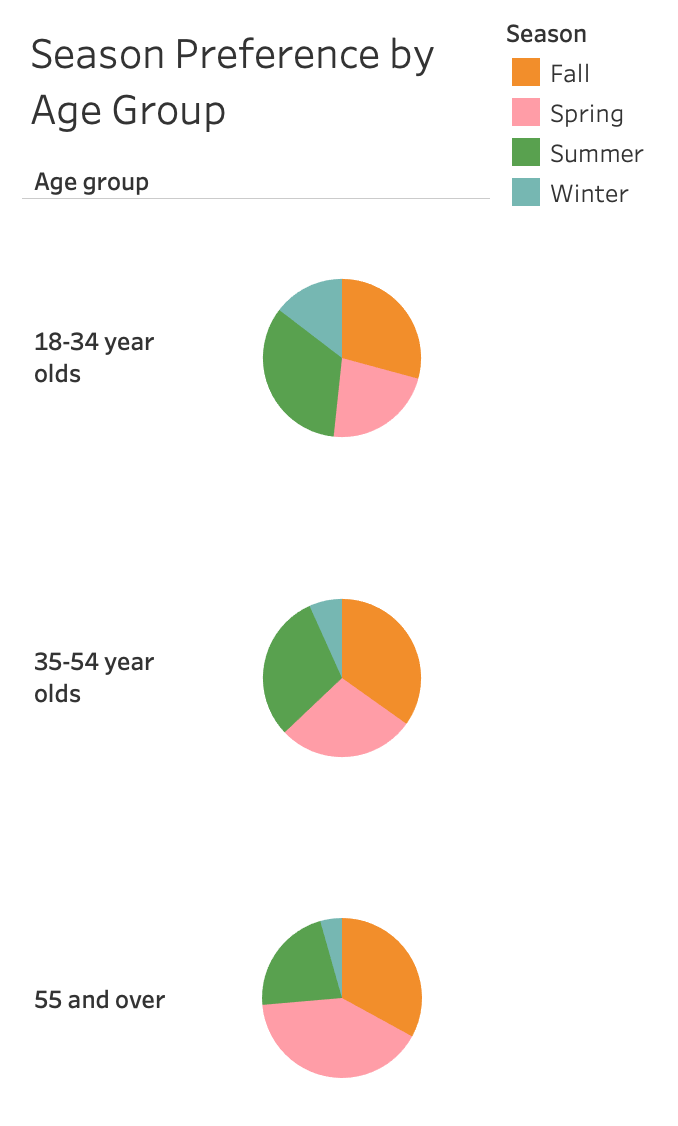

Layout of this report page (visuals, bound fields, positions):
{"tool":"tableau","page":{"name":"Dashboard 1","canvas":[1000,800],"ordinal":0},"visuals":[{"type":"worksheet","title":"Sheet 3","mark":"Automatic","cols":["time"],"box":[23,238,950,243]},{"type":"worksheet","title":"Sheet 2","mark":"Automatic","cols":["time"],"box":[0,503,999,254]}]}

Visuals, with their boxes on the page's 1000x800 design canvas (x1, y1, x2, y2). These are canvas units, not pixel positions in the 678x1126 screenshot, which may show the page scaled, cropped or inside an application window:
"Sheet 3" worksheet: select_region(23, 238, 973, 481)
"Sheet 2" worksheet: select_region(0, 503, 999, 757)
